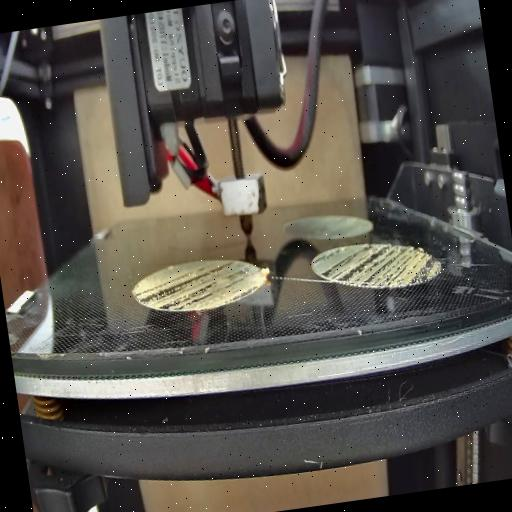under_extrusion: (314, 234, 442, 298), (134, 258, 258, 316)
